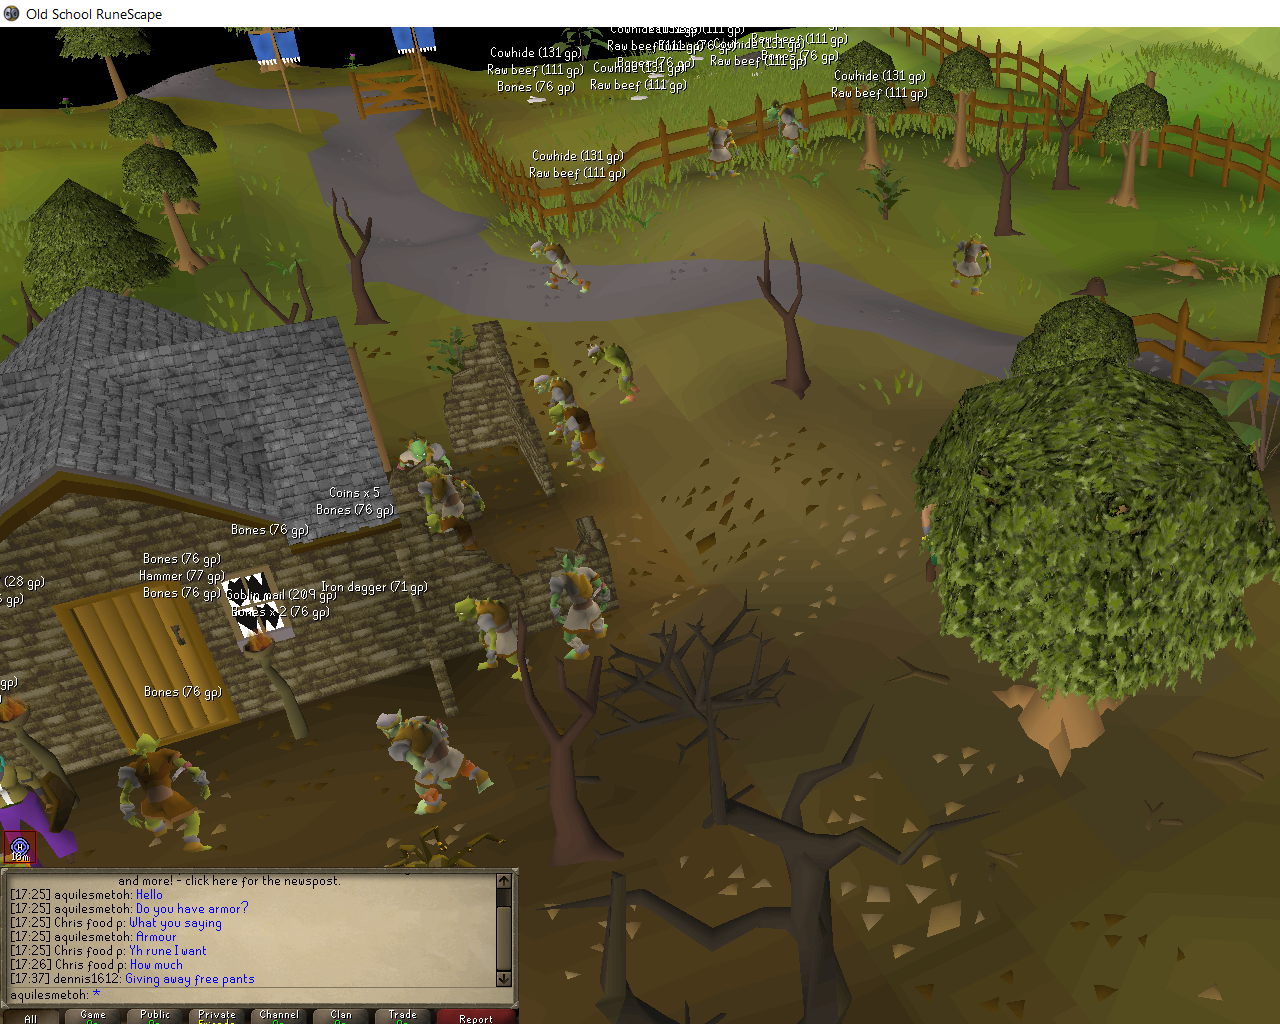Goblin: (106, 729, 238, 856), (367, 705, 497, 815), (453, 589, 539, 683), (549, 553, 614, 667), (411, 462, 478, 540), (548, 403, 613, 476), (526, 372, 583, 438), (525, 240, 594, 295), (585, 343, 641, 403), (949, 232, 993, 298), (766, 102, 810, 161), (394, 433, 453, 474), (702, 117, 741, 179)
